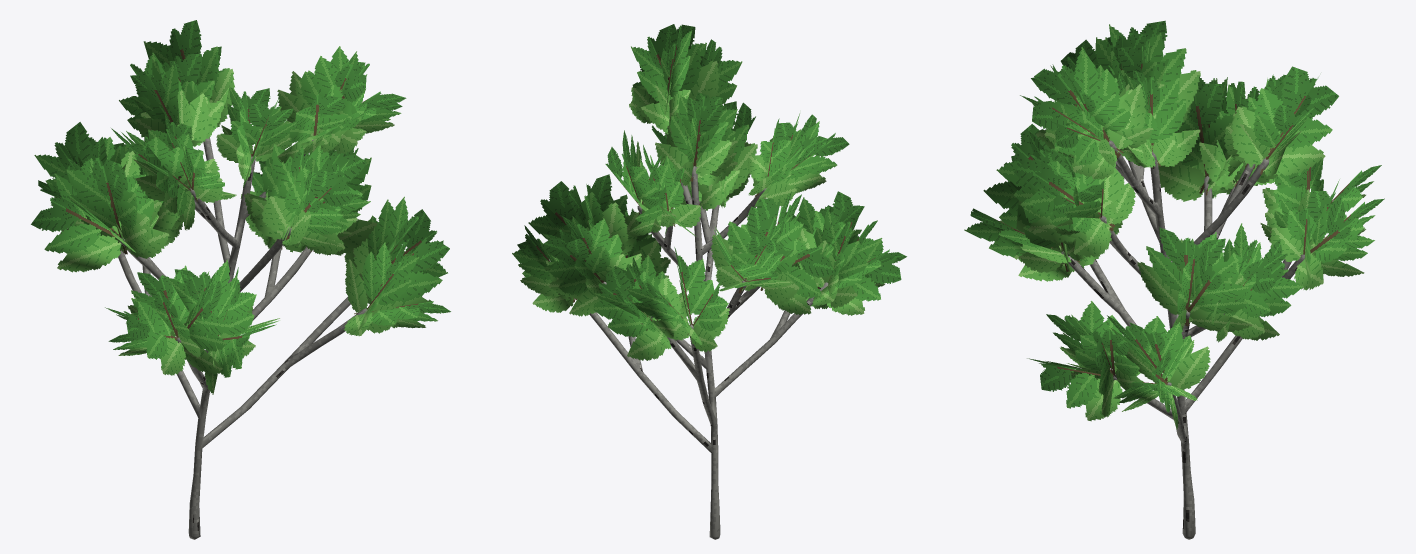
File: environment_elmsapling3_v15.fbx
The picture shows the model from 3 angles, left to right: view 1: azimuth 30°, elevation 25°; view 2: azimuth 150°, elevation 25°; view 3: azimuth 270°, elevation 25°; orthographic projection. The views are drawn at different scales.
Parts seen in each view (by area): view 1: environment_elmsapling3_v15_lod0; view 2: environment_elmsapling3_v15_lod0; view 3: environment_elmsapling3_v15_lod0.
Boxes of the visible parts, x1,y1,x2,y2 form: environment_elmsapling3_v15_lod0: (31, 20, 450, 539); environment_elmsapling3_v15_lod0: (512, 24, 906, 539); environment_elmsapling3_v15_lod0: (964, 20, 1384, 539).
Size of what is drawn, in the model's own units: 177 by 216 by 160.
2 materials, 2 textured.
